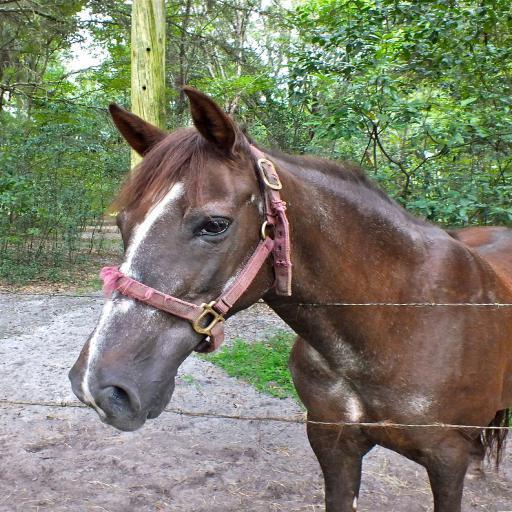horse: (66, 83, 511, 511)
